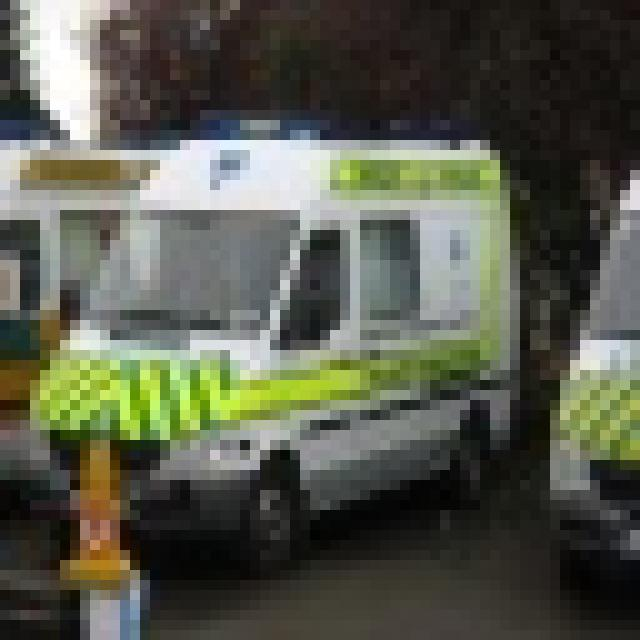Ambulance: (10, 130, 520, 570)
